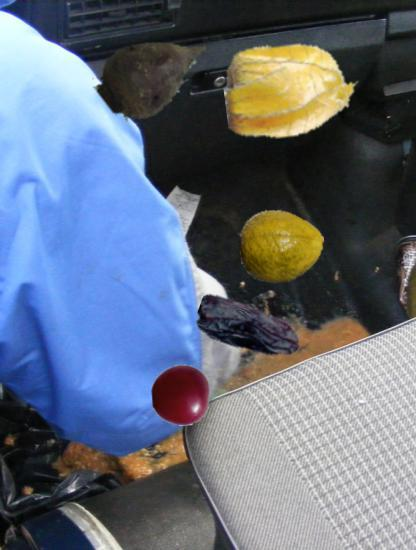Beetroot: (93, 13, 210, 130)
Cherry: (150, 365, 211, 426)
Dates: (195, 274, 304, 383)
Guava: (239, 203, 325, 289)
Physalis: (224, 23, 360, 159)
